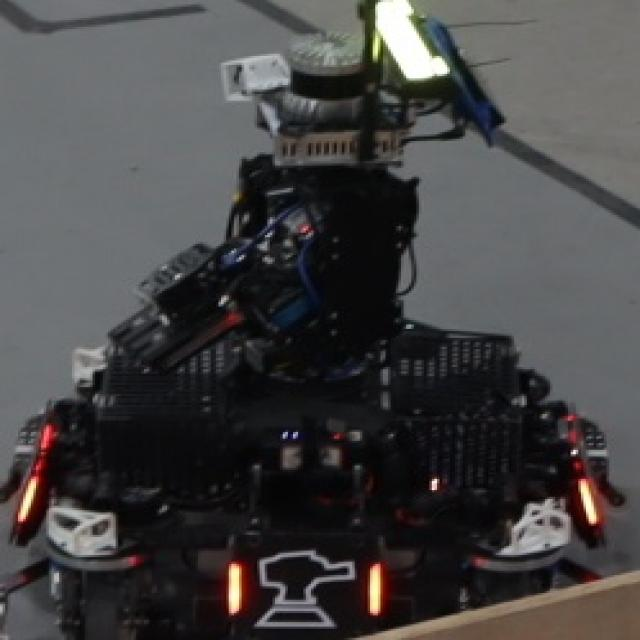Rs: (221, 542, 383, 636)
